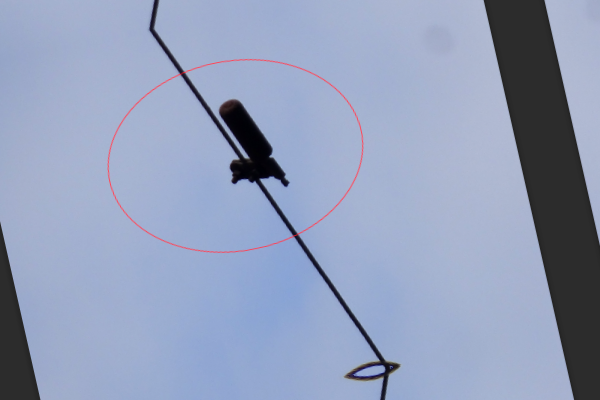damper_defect: (216, 98, 294, 190)
